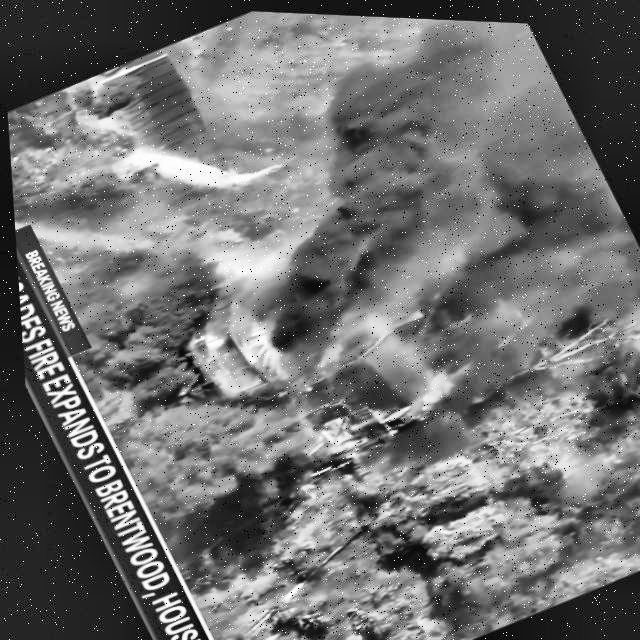Smoke: (165, 6, 640, 451)
